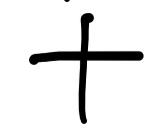plus: (28, 13, 144, 124)
